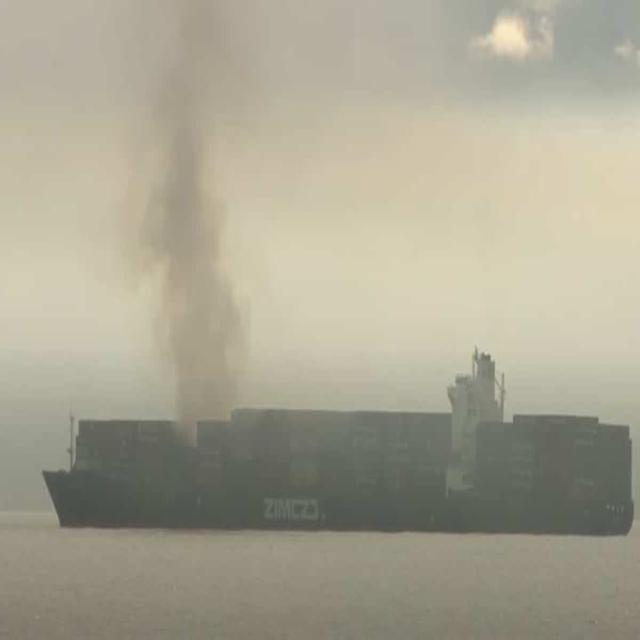cargoship: (50, 351, 635, 547)
